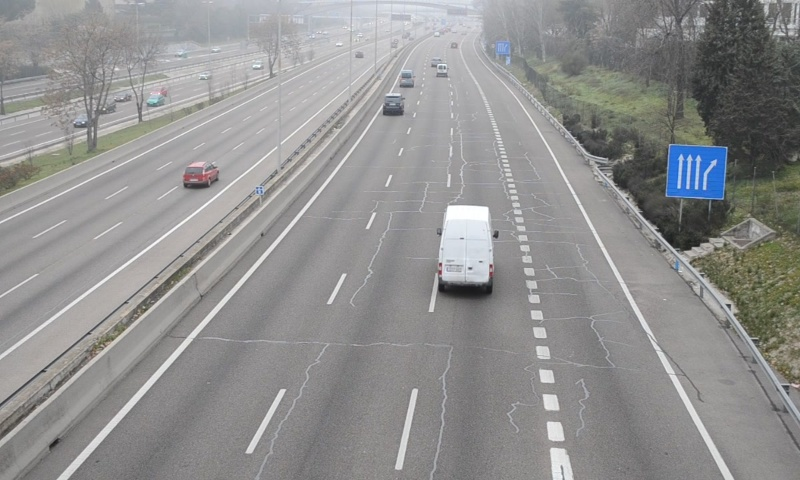car: (383, 94, 404, 115)
van: (438, 206, 495, 293), (398, 69, 414, 86)
